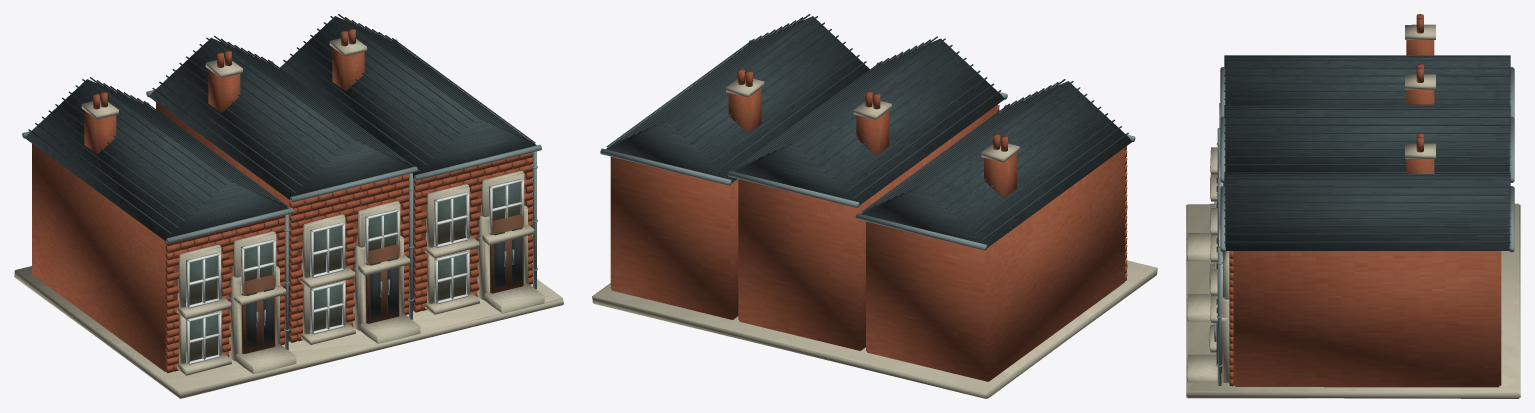
3 views of the same model, side by side, from view 1: azimuth 30°, elevation 25°; view 2: azimuth 150°, elevation 25°; view 3: azimuth 270°, elevation 25° (orthographic). The views are drawn at different scales.
Parts seen in each view (by area): view 1: residential_row__static_slate, residential_row__static_warm_brick, residential_row__static_limestone, residential_row__static_warm_glazing, residential_row__static_civic_pale_painted_trim, residential_row__static_patinated_metal, residential_row__door_02, residential_row__door_03, residential_row__door_01__recessed_entrance_leaf, residential_row__door_01, residential_row__door_01__door_inset_panel; view 2: residential_row__static_warm_brick, residential_row__static_slate, residential_row__static_limestone, residential_row__static_patinated_metal; view 3: residential_row__static_slate, residential_row__static_warm_brick, residential_row__static_limestone, residential_row__static_patinated_metal.
Boxes of the visible parts, box(x1,y1,x2,y2) form: residential_row__static_slate: box(24, 14, 536, 240); residential_row__static_warm_brick: box(32, 28, 532, 373); residential_row__static_limestone: box(14, 36, 563, 398); residential_row__static_warm_glazing: box(186, 180, 520, 361); residential_row__static_civic_pale_painted_trim: box(186, 179, 523, 364); residential_row__static_patinated_metal: box(22, 39, 541, 350); residential_row__door_02: box(365, 244, 399, 323); residential_row__door_03: box(490, 214, 523, 293); residential_row__door_01__recessed_entrance_leaf: box(241, 274, 275, 353); residential_row__door_01: box(263, 288, 273, 343); residential_row__door_01__door_inset_panel: box(246, 292, 256, 347); residential_row__static_warm_brick: box(610, 69, 1127, 381); residential_row__static_slate: box(606, 14, 1132, 247); residential_row__static_limestone: box(592, 77, 1157, 398); residential_row__static_patinated_metal: box(600, 40, 1135, 250); residential_row__static_slate: box(1224, 55, 1510, 250); residential_row__static_warm_brick: box(1229, 14, 1501, 387); residential_row__static_limestone: box(1186, 24, 1520, 398); residential_row__static_patinated_metal: box(1216, 67, 1514, 385).
Bounding box in the file's own units: 8 × 4.41 × 6.
8 materials, 4 textured.
